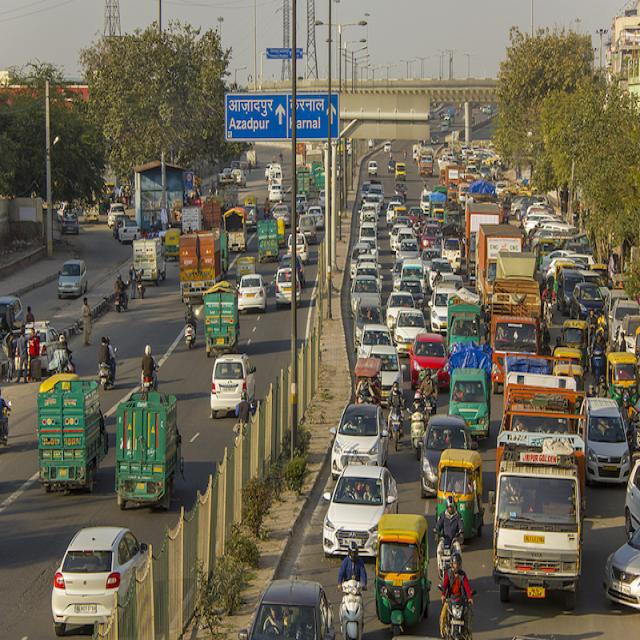Truck: (495, 436, 582, 612), (489, 278, 542, 392), (478, 220, 524, 314), (179, 232, 226, 304)
autorikshaw: (376, 511, 429, 635), (436, 449, 482, 536)
car: (51, 520, 148, 635), (323, 462, 398, 562), (329, 404, 389, 478), (580, 394, 630, 480), (420, 415, 472, 495), (212, 353, 256, 417), (411, 334, 449, 386), (394, 308, 428, 355), (358, 323, 396, 365)
motorcycle: (434, 517, 463, 593), (440, 583, 473, 640), (339, 581, 367, 640), (408, 408, 427, 457), (98, 345, 117, 387), (390, 400, 405, 453), (184, 319, 197, 352), (115, 287, 129, 312)
